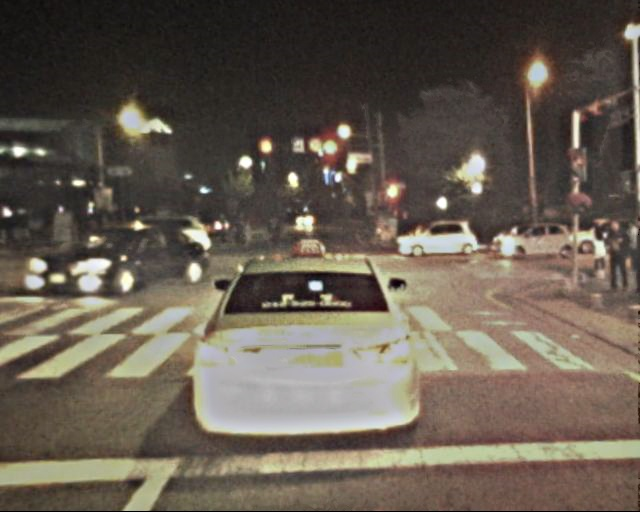person: (602, 218, 633, 293), (590, 232, 610, 280), (262, 217, 287, 249), (231, 211, 246, 247), (215, 215, 228, 247)
